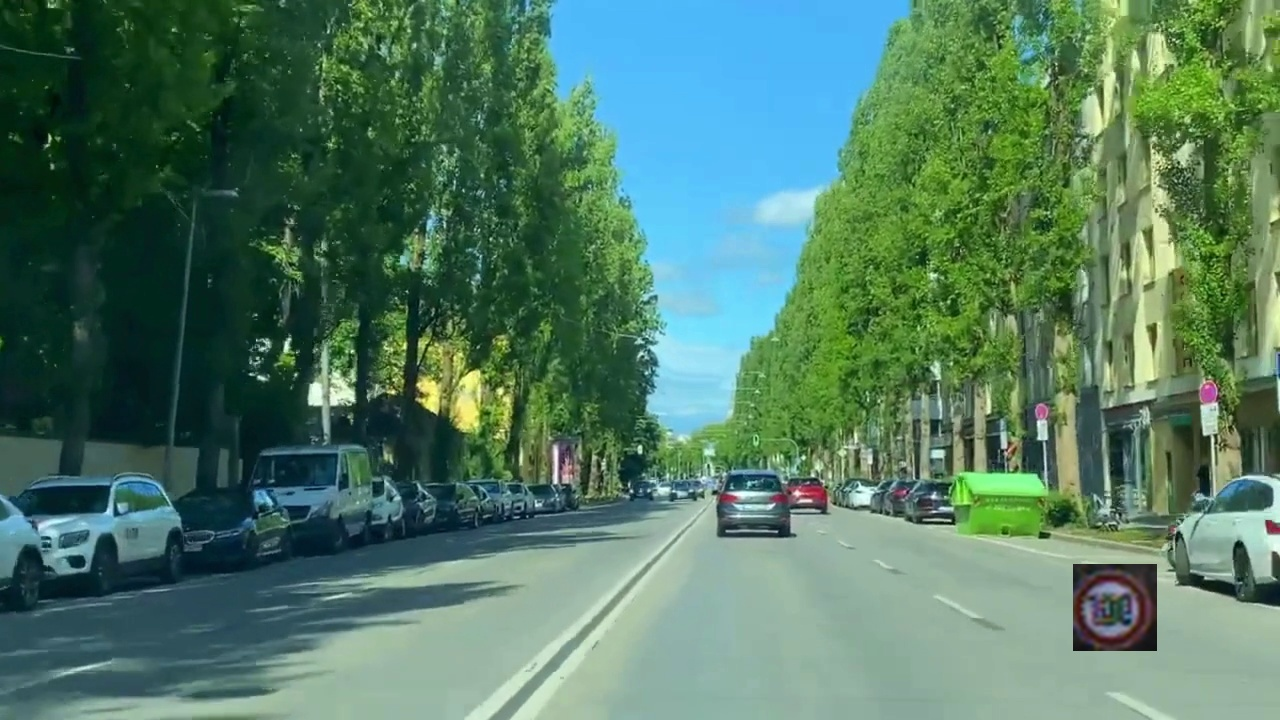Speed 100: (1073, 564, 1157, 651)
